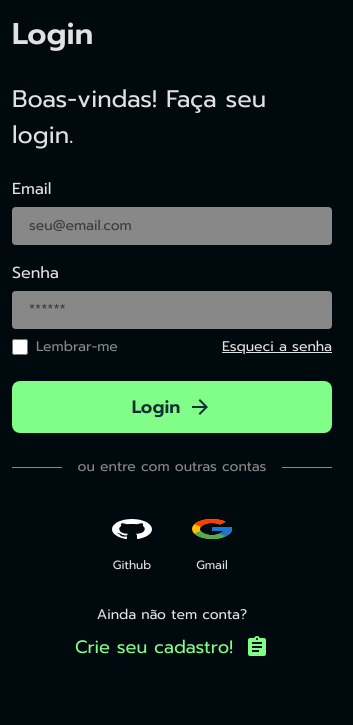
Test: LoginForm › should show errors on submit with empty fields
Step 1. Click the button "Login" → (172, 407), box [12,381,332,433]
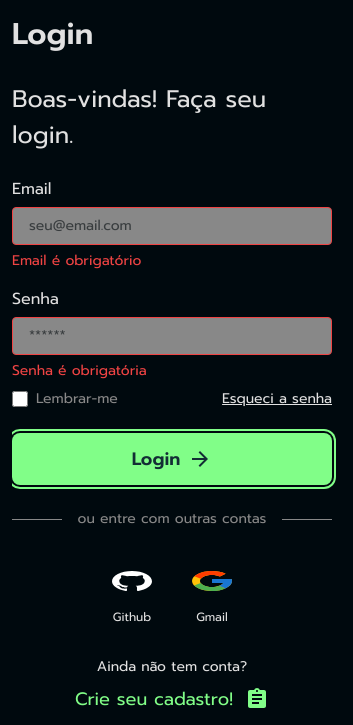
Now the text "Email é obrigatório" is shown, box [12,250,141,271]
Now the text "Senha é obrigatória" is shown, box [12,360,147,381]
